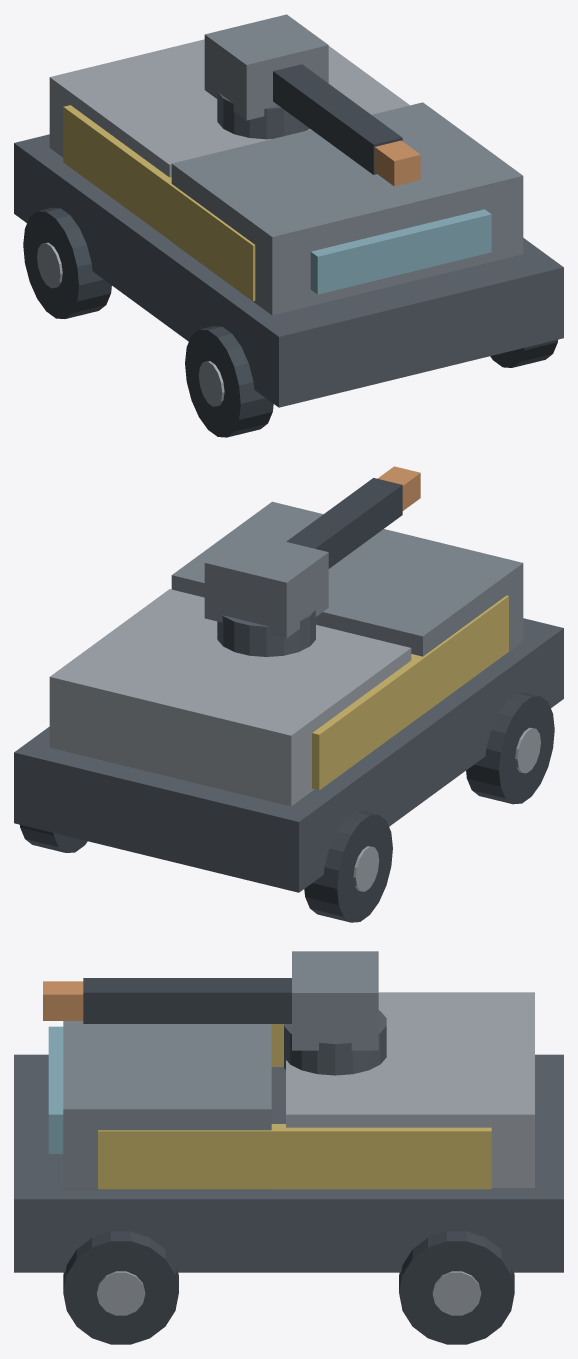
Rendered from human_armored_jeep.glb.
3 renders of one model, top to bottom at view 1: azimuth 30°, elevation 25°; view 2: azimuth 150°, elevation 25°; view 3: azimuth 270°, elevation 25°, orthographic. The views are drawn at different scales.
Visible parts, largest first — view 1: chassis, armored_cab, rear_hull, side_armor_-1, windshield, cannon_turret, cannon_barrel, wheel_1_0, wheel_-1_0, cannon_turret_base, cannon_flash, wheel_-1_1 (+2 smaller); view 2: chassis, rear_hull, armored_cab, side_armor_-1, cannon_turret, wheel_-1_0, wheel_1_0, cannon_barrel, cannon_turret_base, wheel_1_1, cannon_flash, wheel_1_0_hub (+1 smaller); view 3: chassis, rear_hull, armored_cab, side_armor_1, cannon_barrel, wheel_-1_1, wheel_1_1, cannon_turret, cannon_turret_base, windshield, wheel_-1_1_hub, wheel_1_1_hub (+2 smaller).
Boxes of the visible parts, box(x1,y1,x2,y2) form: chassis: box(14, 134, 563, 407); armored_cab: box(171, 102, 523, 315); rear_hull: box(49, 39, 409, 177); side_armor_-1: box(63, 105, 255, 301); windshield: box(310, 209, 491, 294); cannon_turret: box(204, 14, 328, 120); cannon_barrel: box(273, 64, 402, 174); wheel_1_0: box(23, 207, 111, 318); wheel_-1_0: box(185, 326, 273, 437); cannon_turret_base: box(217, 92, 309, 139); cannon_flash: box(374, 140, 420, 186); wheel_-1_1: box(490, 339, 557, 367); chassis: box(14, 618, 563, 892); rear_hull: box(49, 589, 411, 806); armored_cab: box(171, 501, 523, 711); side_armor_-1: box(312, 595, 508, 790); cannon_turret: box(204, 532, 328, 638); wheel_-1_0: box(466, 692, 554, 804); wheel_1_0: box(304, 811, 392, 922); cannon_barrel: box(286, 478, 402, 568); cannon_turret_base: box(217, 610, 315, 656); wheel_1_1: box(20, 825, 87, 852); cannon_flash: box(378, 466, 420, 510); wheel_1_0_hub: box(353, 846, 379, 891); chassis: box(14, 1054, 563, 1272); rear_hull: box(286, 992, 534, 1187); armored_cab: box(63, 1021, 271, 1190); side_armor_1: box(98, 1124, 491, 1189); cannon_barrel: box(83, 978, 291, 1023); wheel_-1_1: box(63, 1231, 178, 1344); wheel_1_1: box(399, 1231, 514, 1344); cannon_turret: box(292, 951, 378, 1050); cannon_turret_base: box(284, 1010, 386, 1075); windshield: box(48, 1026, 63, 1153); wheel_-1_1_hub: box(96, 1271, 145, 1315); wheel_1_1_hub: box(432, 1271, 481, 1315).
Bounding box in the file's own units: 1.34 × 1.11 × 1.9.
